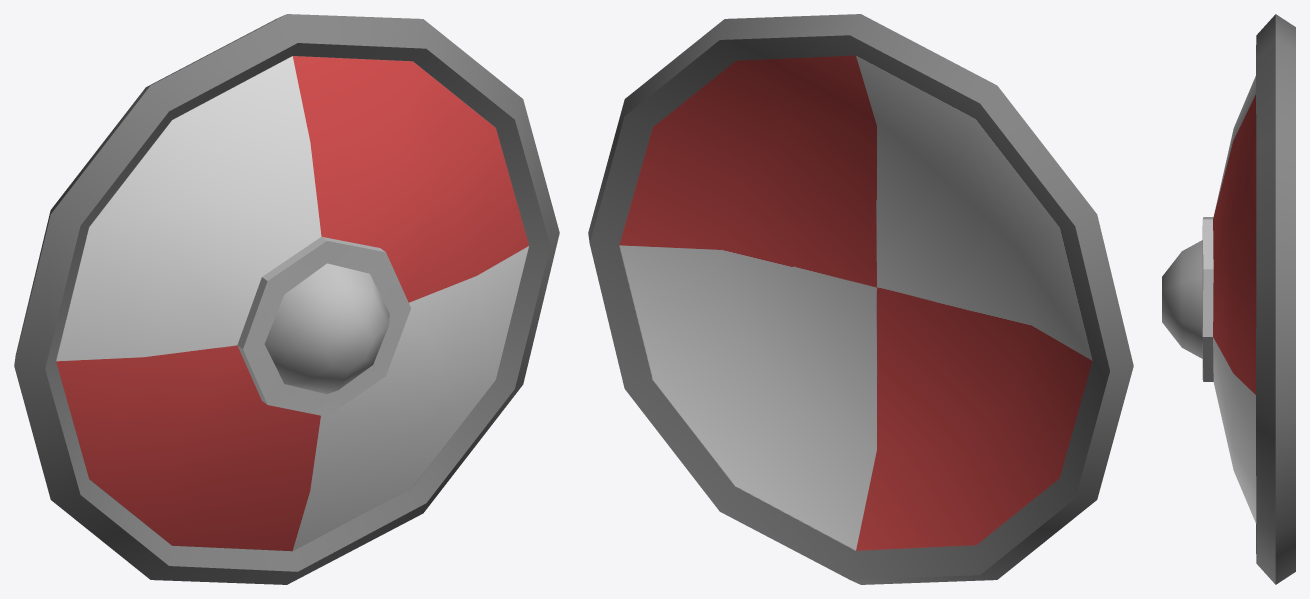
Rendered from Shield.fbx.
3 renders of one model, left to right at view 1: azimuth 30°, elevation 25°; view 2: azimuth 150°, elevation 25°; view 3: azimuth 270°, elevation 25°, orthographic. The views are drawn at different scales.
Parts seen in each view (by area): view 1: Cylinder002; view 2: Cylinder002; view 3: Cylinder002.
Part boxes in pixels (<box>): Cylinder002: <box>14,14,559,584</box>; Cylinder002: <box>588,14,1133,584</box>; Cylinder002: <box>1162,14,1295,584</box>.
Size of the model in its own units: 33.77 by 33.77 by 7.88.
1 material, 1 textured.
